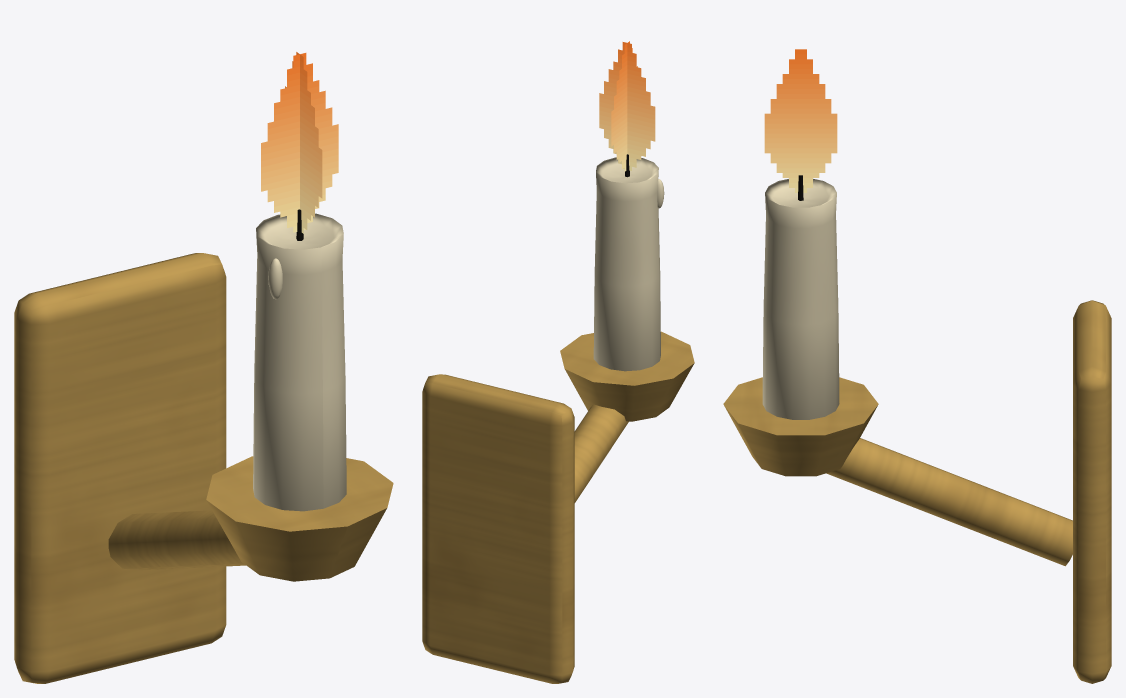
File: sconce.glb
3 renders of one model, left to right at view 1: azimuth 30°, elevation 25°; view 2: azimuth 150°, elevation 25°; view 3: azimuth 270°, elevation 25°, orthographic. The views are drawn at different scales.
Parts seen in each view (by area): view 1: sconce; view 2: sconce; view 3: sconce.
Part boxes in pixels (x1,y1,x2,y2): sconce: [14, 52, 393, 683]; sconce: [422, 41, 694, 683]; sconce: [723, 49, 1111, 683].
Bounding box in the file's own units: 0.1 × 0.35 × 0.2.
4 materials, 3 textured.
